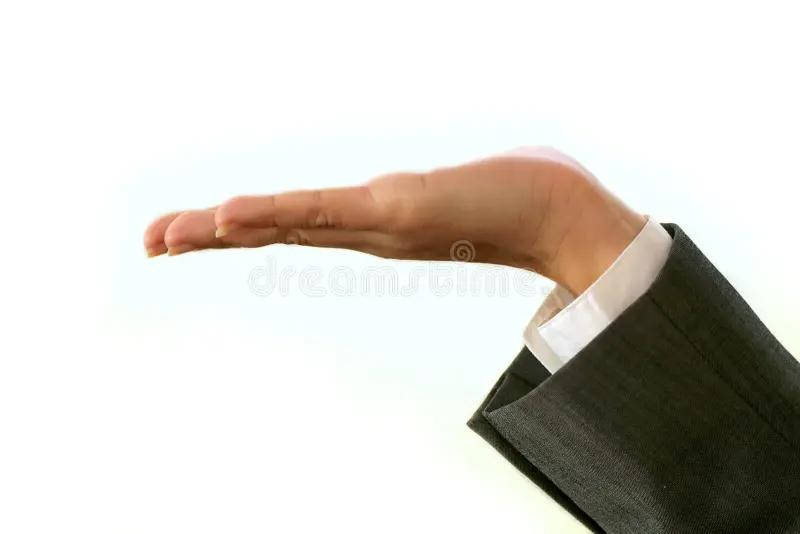paper: (123, 132, 595, 275)
